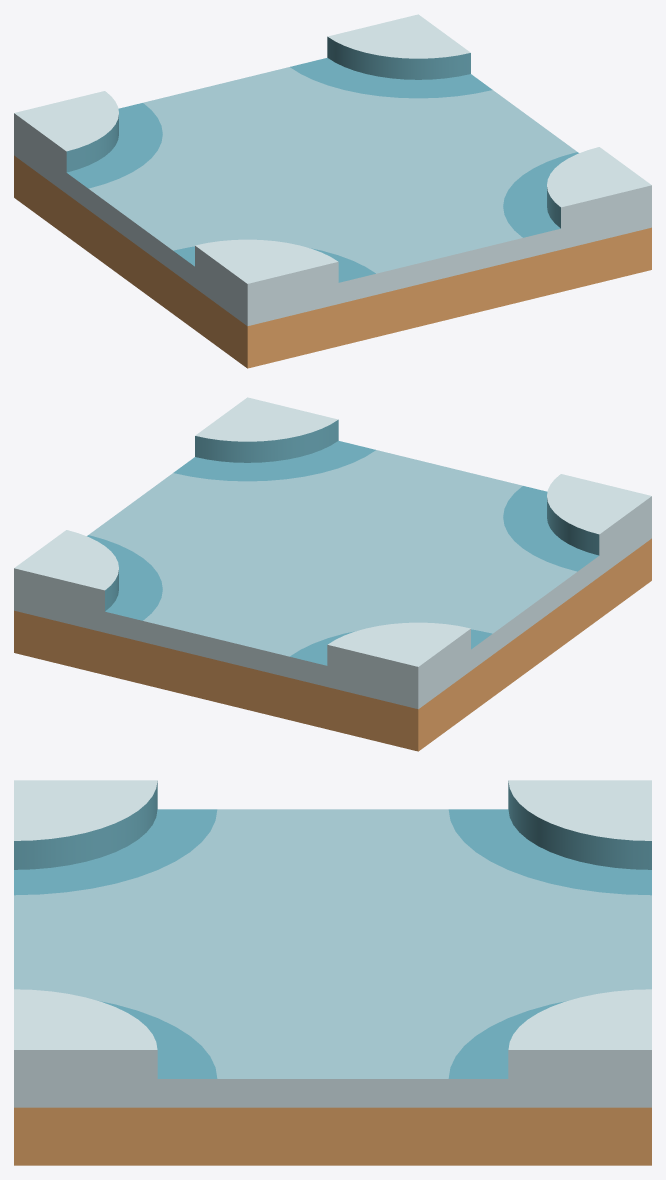
File: snowTileCrossing.fbx
3 views of the same model, one above another, from view 1: azimuth 30°, elevation 25°; view 2: azimuth 150°, elevation 25°; view 3: azimuth 270°, elevation 25° (orthographic). The views are drawn at different scales.
Visible parts, largest first — view 1: snow_tile_crossing; view 2: snow_tile_crossing; view 3: snow_tile_crossing.
Boxes of the visible parts, x1,y1,x2,y2 form: snow_tile_crossing: (14,14,651,368); snow_tile_crossing: (14,397,651,751); snow_tile_crossing: (14,780,651,1165).
Size of the model in its own units: 39.37 by 7.87 by 39.37.
